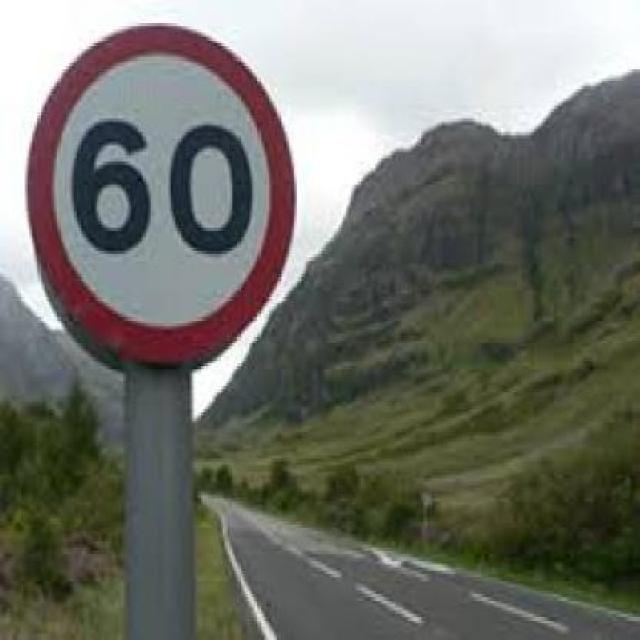forb_speed_over_60: (32, 23, 298, 359)
